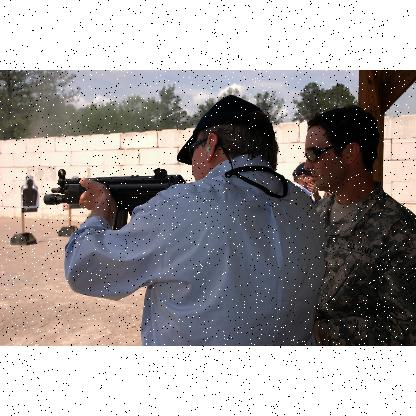gun: (46, 168, 184, 228)
